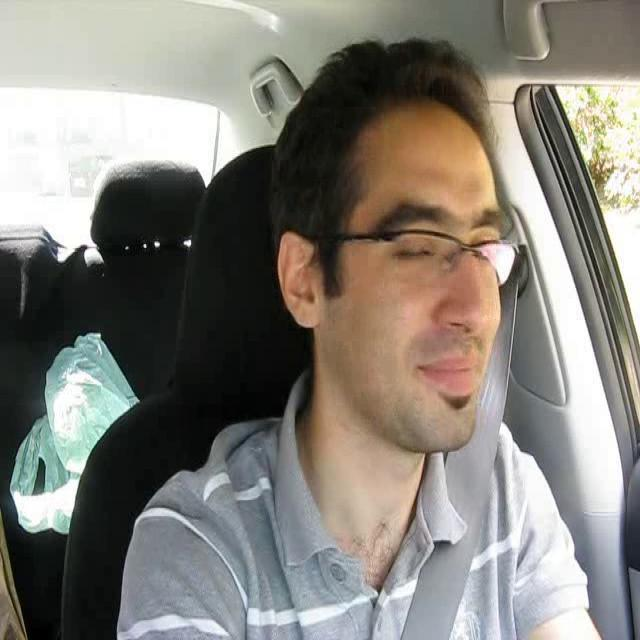close: (371, 198, 450, 268), (464, 201, 509, 266)
